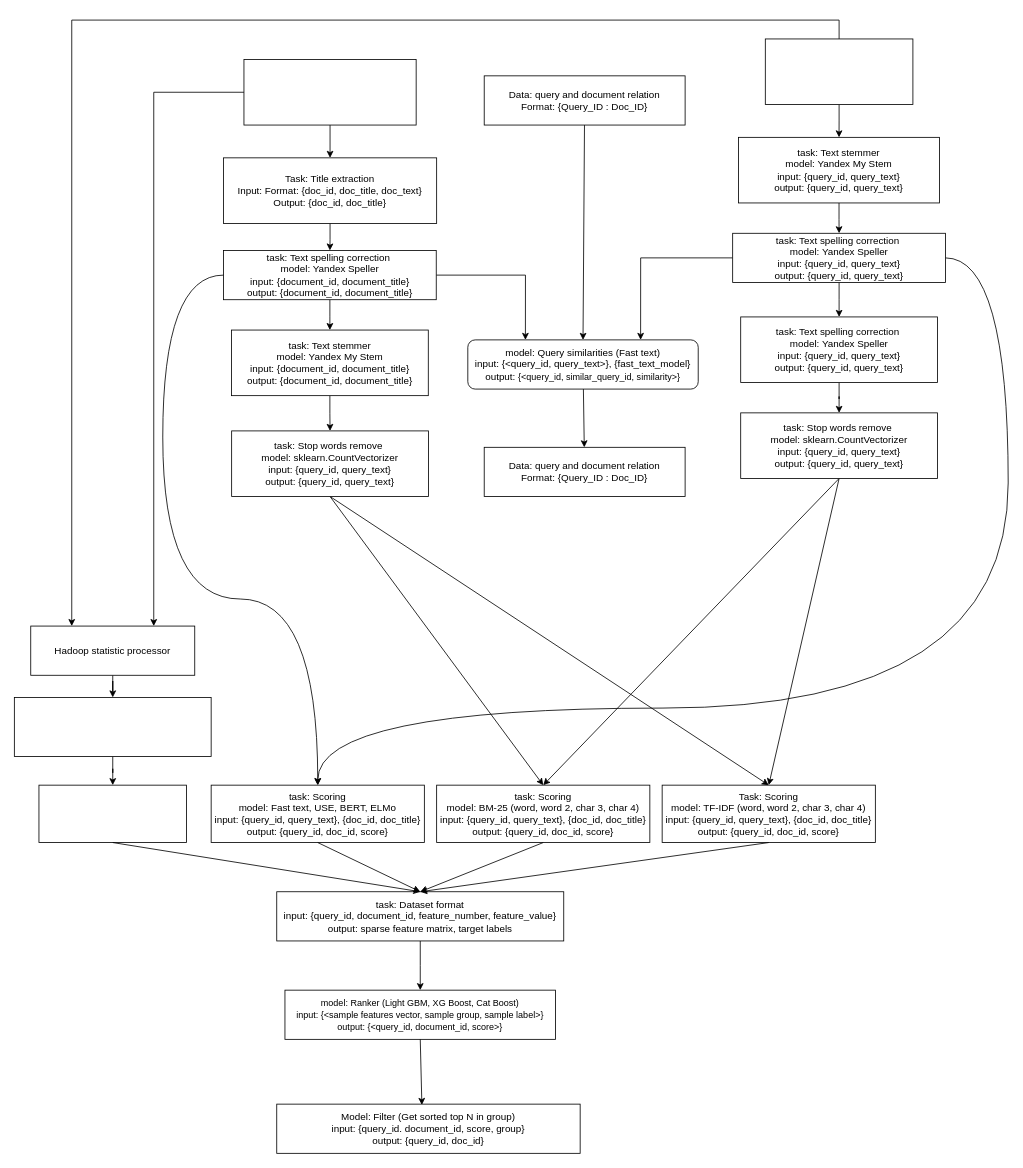
Some shapes in this 1023 by 1168 pixel diagram are drawn without their labels. The centre of each missing label's shape, as x and y in pixels:
"Data: Click statistic Format: sparse_feature_matrix" belongs at point (112, 813).
"Data: Raw documents Format: {doc_id, doc_title, doc_text}" belongs at point (329, 92).
"Data: Raw queries Format: {query_id, query_text}" belongs at point (838, 71).
"Format click statistic dataset" belongs at point (112, 726).
